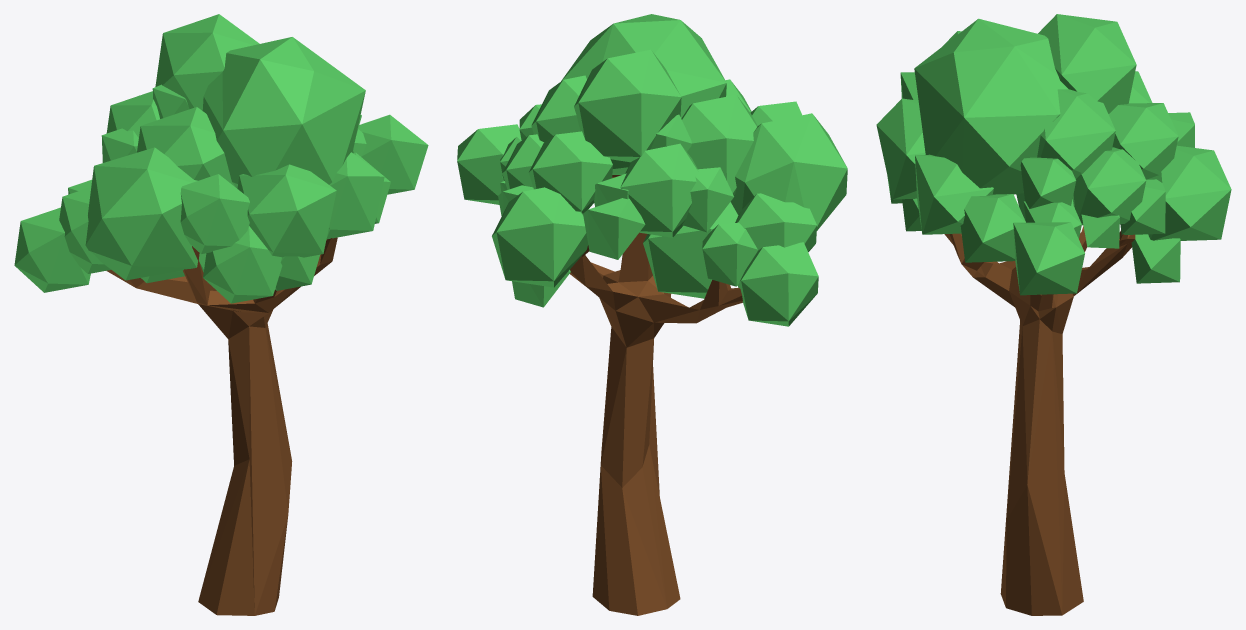
File: LowpolyTrees04.fbx
3 renders of one model, left to right at view 1: azimuth 30°, elevation 25°; view 2: azimuth 150°, elevation 25°; view 3: azimuth 270°, elevation 25°, orthographic. The views are drawn at different scales.
Visible parts, largest first — view 1: Tree05; view 2: Tree05; view 3: Tree05.
Boxes of the visible parts, x1,y1,x2,y2 form: Tree05: (14,14,428,615); Tree05: (457,14,847,615); Tree05: (876,14,1231,615).
Size of what is drawn, in the model's own units: 423 by 602 by 336.
